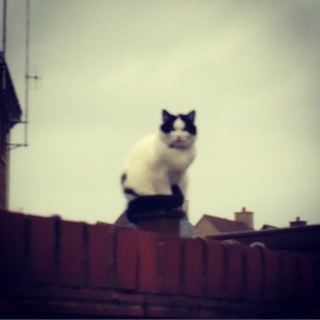Cat: (118, 105, 197, 194)
